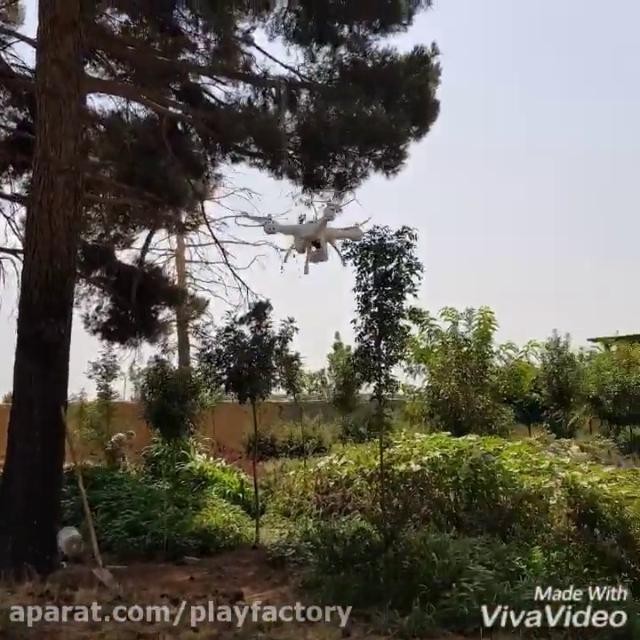drone: (230, 193, 372, 273)
